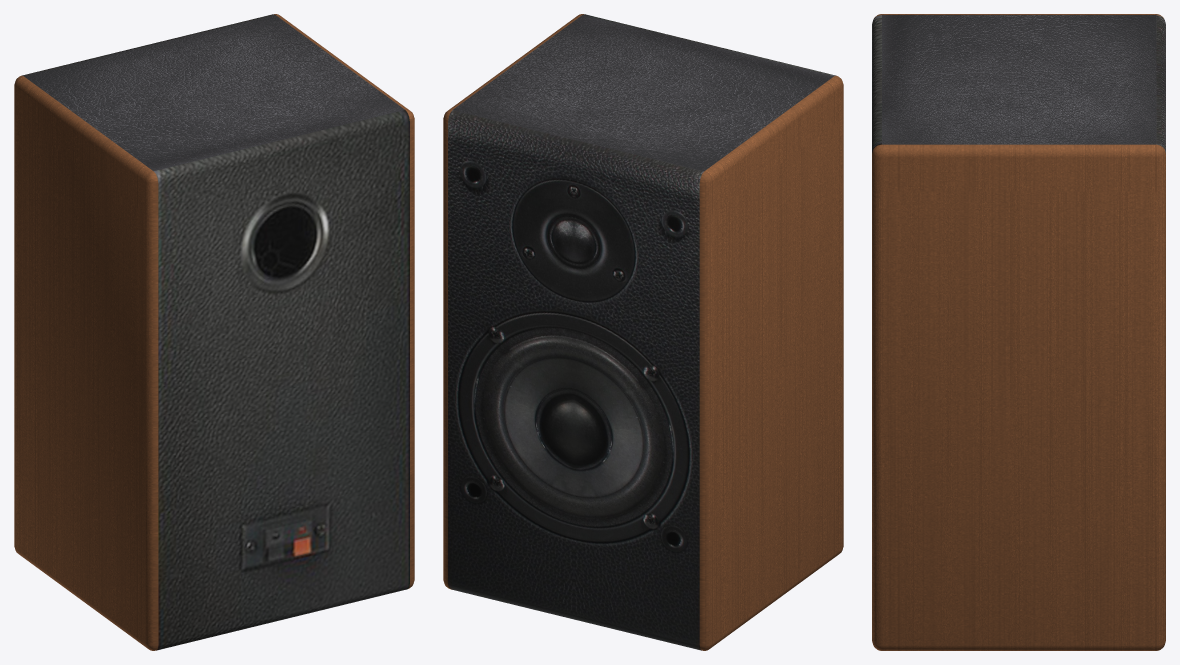
The model's file is Loudspeaker01a.FBX.
3 views of the same model, side by side, from view 1: azimuth 30°, elevation 25°; view 2: azimuth 150°, elevation 25°; view 3: azimuth 270°, elevation 25° (orthographic). The views are drawn at different scales.
Parts seen in each view (by area): view 1: Loudspeaker01a; view 2: Loudspeaker01a; view 3: Loudspeaker01a.
Part boxes in pixels (<box>): Loudspeaker01a: <box>14,14,414,650</box>; Loudspeaker01a: <box>443,14,843,650</box>; Loudspeaker01a: <box>872,14,1165,650</box>.
Size of the model in its own units: 19.69 by 33.64 by 17.72.
